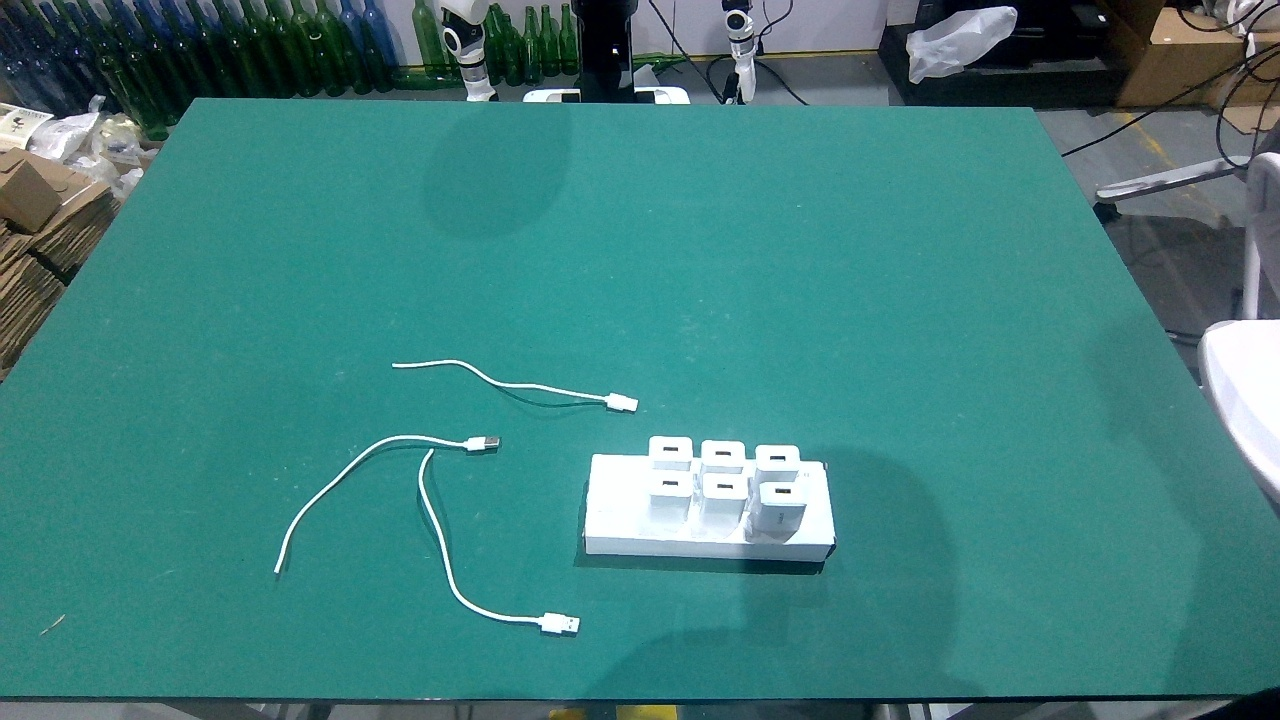usb_a_port: (715, 480, 735, 492), (773, 487, 794, 496), (661, 479, 679, 488), (713, 450, 733, 458), (768, 455, 788, 463), (661, 446, 680, 454)
